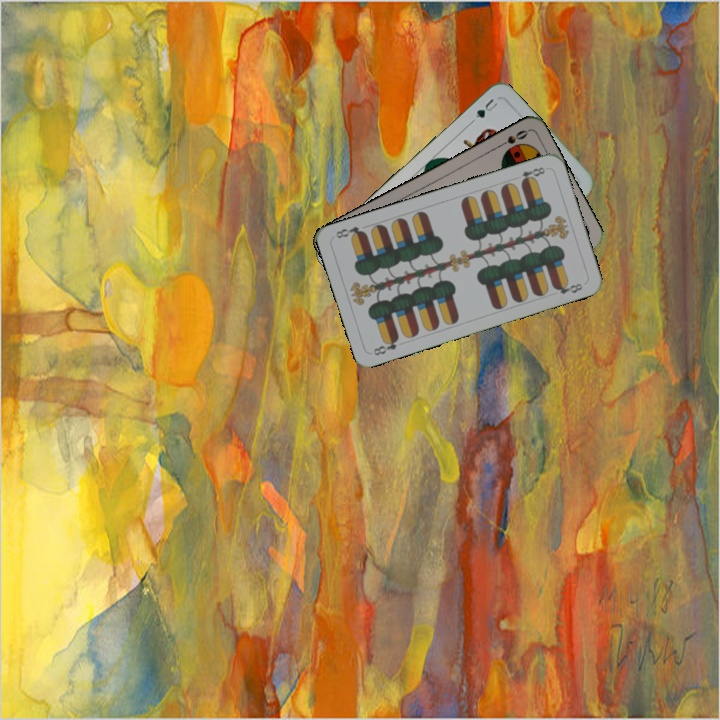E8: (369, 332, 402, 358), (517, 163, 548, 186)
GU: (471, 94, 500, 121)
SO: (493, 126, 531, 151)
